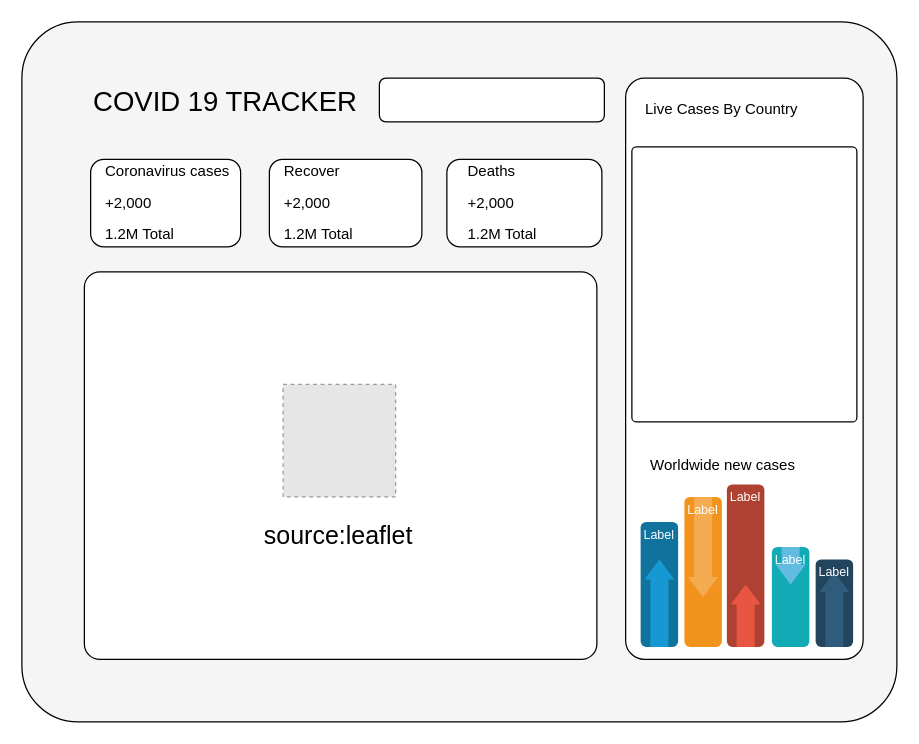
The diagram is 919 pixels wide and 744 high, and some of its shapes have lost their labels. Grey dashed boxes stand in for pictures. Each missing label, with the centre of its shape:
Value 1 Value 2 Value 3 Value 4 Value 5 Value 6 Value 7 Value 8 Value 9: (744,284)
WorldWide: (491,99)
